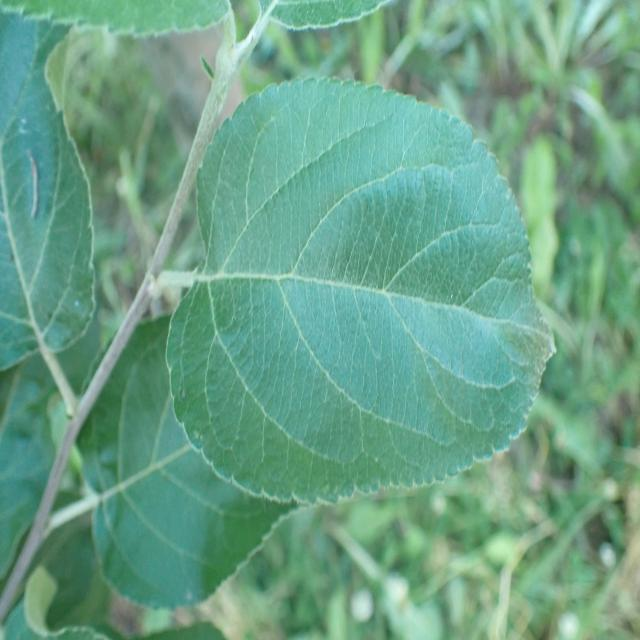healthy: (163, 73, 558, 506), (91, 311, 296, 610), (0, 4, 96, 372)
